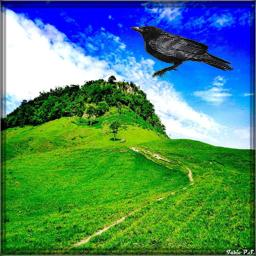Crow: (130, 25, 234, 78)
